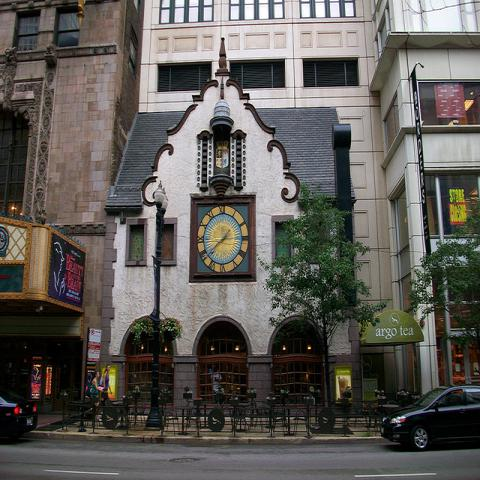car: (380, 385, 480, 450), (0, 393, 40, 434)
